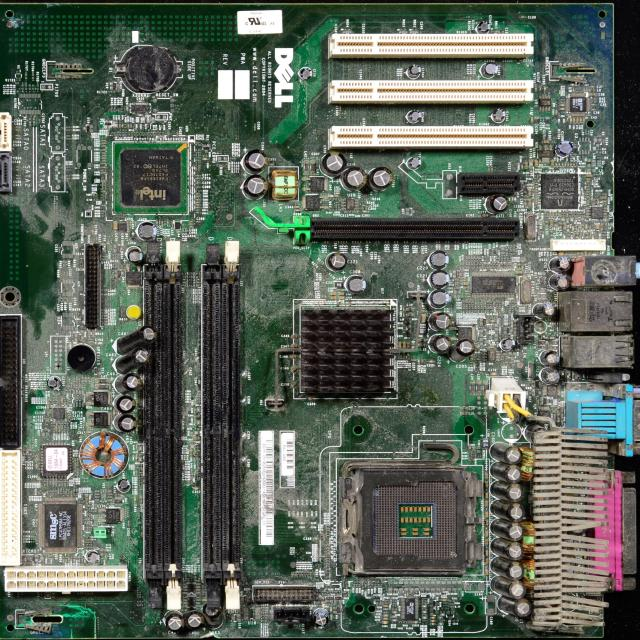Capacitor Jumper: (243, 148, 272, 175), (344, 167, 369, 192), (369, 167, 397, 189), (245, 176, 273, 197), (532, 298, 556, 320), (324, 150, 346, 174), (121, 370, 144, 391), (114, 393, 139, 412), (426, 312, 452, 330), (538, 368, 561, 388), (115, 414, 138, 434), (550, 252, 574, 271), (131, 345, 152, 366), (432, 335, 452, 357), (428, 250, 451, 269), (488, 192, 512, 210), (327, 250, 347, 271), (530, 426, 551, 446), (512, 599, 533, 619), (137, 222, 158, 242), (427, 270, 449, 289), (502, 445, 523, 464), (425, 288, 448, 305), (506, 562, 525, 582), (507, 502, 525, 523), (505, 582, 527, 599), (456, 336, 474, 356), (313, 610, 331, 630), (548, 274, 570, 290), (504, 465, 523, 483), (347, 276, 365, 294), (506, 484, 524, 502), (126, 246, 144, 264), (543, 349, 562, 366), (404, 63, 424, 78), (507, 544, 524, 561), (140, 327, 158, 343), (407, 154, 423, 172), (404, 111, 424, 125), (507, 525, 523, 542), (557, 142, 575, 157), (482, 60, 501, 74), (298, 68, 317, 82), (491, 106, 507, 122), (118, 477, 132, 492), (500, 337, 515, 350), (85, 552, 101, 564), (46, 378, 61, 390), (478, 22, 489, 34), (173, 222, 181, 230), (290, 343, 298, 349), (421, 314, 426, 323), (24, 460, 39, 463), (523, 162, 529, 169), (328, 292, 338, 296), (328, 296, 338, 300), (290, 354, 298, 359), (550, 159, 554, 169), (527, 198, 532, 206), (113, 222, 118, 230), (290, 366, 296, 372), (290, 382, 296, 388), (584, 174, 593, 178), (549, 219, 553, 228), (337, 292, 345, 296), (337, 296, 345, 300), (35, 478, 43, 482), (85, 493, 89, 501), (542, 141, 550, 145), (534, 158, 538, 166), (528, 188, 532, 196), (292, 334, 298, 339), (406, 342, 411, 348), (397, 342, 402, 348), (402, 342, 407, 348), (489, 373, 496, 377), (381, 621, 388, 625), (554, 109, 558, 116), (519, 15, 526, 19), (21, 84, 24, 93), (543, 86, 547, 92), (382, 605, 389, 608), (382, 617, 389, 620), (194, 174, 201, 177), (601, 197, 608, 200), (564, 223, 567, 230), (35, 464, 39, 469), (430, 616, 436, 619), (591, 103, 597, 106), (582, 117, 585, 123), (14, 174, 20, 177), (362, 210, 368, 213), (596, 224, 599, 230), (92, 232, 95, 238), (518, 270, 522, 274), (576, 116, 578, 124), (573, 117, 575, 125), (323, 240, 327, 244), (579, 117, 582, 122), (542, 117, 545, 122), (539, 117, 542, 122), (490, 166, 493, 171), (14, 168, 19, 171), (441, 599, 448, 601), (14, 177, 21, 179), (196, 281, 200, 284), (463, 283, 469, 285), (313, 538, 319, 540), (595, 93, 599, 96), (531, 117, 533, 123), (570, 117, 572, 123), (113, 124, 116, 128), (116, 124, 119, 128), (202, 158, 208, 160), (195, 209, 199, 212), (127, 220, 129, 226), (182, 228, 184, 234), (326, 240, 329, 244), (386, 240, 389, 244), (351, 240, 354, 244), (354, 240, 357, 244), (346, 240, 348, 246), (196, 279, 201, 281), (431, 620, 436, 622), (14, 166, 19, 168), (195, 182, 200, 184), (195, 193, 200, 195), (334, 195, 339, 197), (476, 194, 478, 199), (195, 199, 200, 201), (294, 206, 299, 208), (338, 240, 340, 245), (340, 240, 342, 245), (197, 284, 200, 287), (117, 109, 120, 112), (195, 207, 198, 210), (184, 229, 187, 232), (182, 280, 186, 282), (182, 282, 186, 284), (182, 284, 186, 286), (320, 533, 324, 535), (130, 124, 132, 128), (128, 124, 130, 128), (102, 140, 106, 142), (102, 142, 106, 144), (102, 145, 106, 147), (102, 152, 106, 154), (102, 157, 106, 159), (488, 166, 490, 170), (196, 186, 200, 188), (473, 195, 475, 199), (196, 196, 200, 198), (195, 212, 199, 214), (189, 223, 193, 225), (189, 226, 193, 228), (394, 240, 396, 244), (366, 240, 368, 244), (343, 240, 345, 244), (357, 241, 359, 245), (194, 178, 201, 179), (69, 298, 72, 300), (58, 302, 61, 304), (54, 307, 56, 310), (103, 154, 106, 156), (102, 160, 105, 162), (196, 202, 199, 204), (196, 204, 199, 206), (92, 227, 94, 230), (384, 241, 386, 244), (403, 241, 405, 244), (77, 266, 79, 268), (71, 272, 73, 274), (78, 298, 80, 300), (72, 302, 74, 304), (122, 124, 123, 128), (119, 124, 120, 128), (396, 241, 398, 243), (72, 251, 74, 253), (67, 270, 68, 273), (190, 221, 193, 222), (196, 221, 199, 222), (407, 240, 408, 243)
Connector: (4, 559, 127, 598), (328, 80, 534, 102), (329, 34, 534, 56), (330, 126, 534, 147), (0, 449, 26, 569), (0, 316, 22, 452), (80, 243, 104, 332)
IC: (121, 149, 181, 207), (45, 504, 76, 546), (570, 96, 588, 114), (404, 598, 416, 620), (52, 406, 68, 421), (304, 195, 320, 210), (310, 177, 324, 192), (130, 104, 150, 112)
Resistor Jumper: (482, 439, 488, 450), (85, 210, 92, 217), (45, 415, 53, 420), (24, 84, 28, 92), (36, 84, 40, 92), (198, 576, 202, 583), (30, 85, 34, 92), (419, 428, 422, 437), (120, 314, 126, 318), (402, 354, 406, 360), (22, 386, 26, 392), (535, 390, 539, 396), (54, 490, 58, 496), (113, 82, 116, 90), (533, 85, 537, 91), (28, 84, 31, 92), (110, 106, 114, 112), (117, 245, 120, 252), (20, 395, 24, 400), (48, 491, 52, 496), (465, 60, 470, 64), (509, 256, 512, 262), (490, 263, 493, 269), (423, 359, 426, 365), (543, 398, 546, 404), (190, 574, 192, 583), (478, 193, 481, 199), (473, 257, 477, 261), (408, 356, 410, 364), (468, 451, 472, 455), (325, 554, 329, 558), (326, 560, 330, 564), (188, 574, 190, 582), (185, 574, 187, 582), (156, 132, 160, 136), (22, 376, 25, 381), (307, 571, 310, 576), (358, 581, 361, 586), (345, 591, 350, 594), (539, 86, 542, 91), (466, 110, 471, 113), (367, 197, 372, 200), (361, 200, 366, 203), (479, 256, 481, 262), (66, 261, 68, 267), (495, 263, 498, 267), (196, 276, 200, 279), (418, 358, 420, 364), (68, 418, 72, 421), (64, 422, 66, 428), (468, 455, 472, 458), (73, 489, 75, 495), (326, 530, 330, 533), (326, 550, 330, 553), (371, 582, 374, 586), (422, 602, 426, 605), (382, 609, 388, 611), (421, 614, 427, 616), (110, 91, 116, 93), (590, 98, 596, 100), (126, 106, 128, 112), (114, 106, 116, 112), (23, 114, 26, 118), (133, 125, 136, 129), (125, 132, 128, 136), (139, 132, 142, 136), (150, 132, 153, 136), (153, 132, 156, 136), (102, 182, 106, 185), (94, 193, 98, 196), (466, 258, 468, 263), (63, 261, 65, 266), (101, 323, 106, 325), (398, 355, 400, 360), (76, 490, 78, 495), (325, 536, 330, 538), (325, 544, 330, 546), (302, 571, 304, 576), (304, 571, 306, 576), (354, 581, 356, 586), (378, 581, 380, 586), (380, 581, 382, 586), (421, 600, 426, 602), (422, 608, 427, 610), (591, 101, 596, 103), (124, 123, 126, 128), (112, 132, 114, 137), (216, 164, 221, 166), (60, 298, 63, 301), (320, 538, 323, 541), (196, 149, 199, 152), (196, 164, 199, 167), (103, 187, 106, 190), (496, 258, 498, 262), (182, 272, 186, 274), (182, 276, 186, 278), (400, 355, 402, 359), (468, 458, 472, 460), (320, 536, 324, 538), (326, 553, 330, 555), (326, 569, 330, 571), (299, 571, 301, 575), (375, 582, 377, 586), (365, 582, 367, 586), (239, 587, 243, 589), (345, 595, 349, 597), (120, 108, 122, 112), (147, 124, 149, 128), (142, 125, 144, 129), (162, 132, 164, 136), (122, 132, 124, 136), (117, 132, 119, 136), (131, 132, 133, 136), (120, 132, 122, 136), (136, 132, 138, 136), (134, 132, 136, 136), (159, 132, 161, 136), (148, 132, 150, 136), (114, 132, 116, 136), (195, 144, 199, 146), (196, 167, 200, 169), (102, 194, 106, 196), (469, 194, 471, 198), (102, 197, 106, 199), (76, 263, 79, 265), (60, 272, 62, 275), (327, 534, 330, 536), (326, 558, 329, 560), (327, 572, 330, 574), (294, 572, 296, 575), (145, 133, 147, 136), (103, 185, 106, 187), (89, 207, 91, 210), (294, 210, 300, 211), (101, 213, 107, 214), (101, 215, 107, 216), (118, 79, 119, 84), (195, 155, 200, 156), (195, 170, 200, 171), (195, 191, 200, 192), (64, 299, 66, 301), (67, 302, 69, 304), (67, 306, 69, 308), (297, 572, 298, 576), (356, 582, 357, 586), (196, 157, 198, 159), (196, 162, 198, 164), (94, 199, 98, 200), (197, 273, 200, 274), (143, 132, 144, 135), (101, 265, 103, 266), (102, 267, 103, 269)
Transistor: (98, 507, 125, 525), (86, 391, 111, 407), (86, 412, 110, 427), (115, 496, 124, 506)
